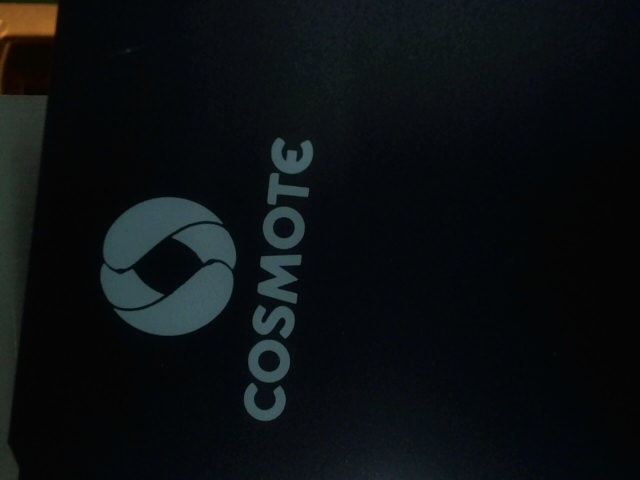AU_COSMOTE: (89, 125, 317, 425)
